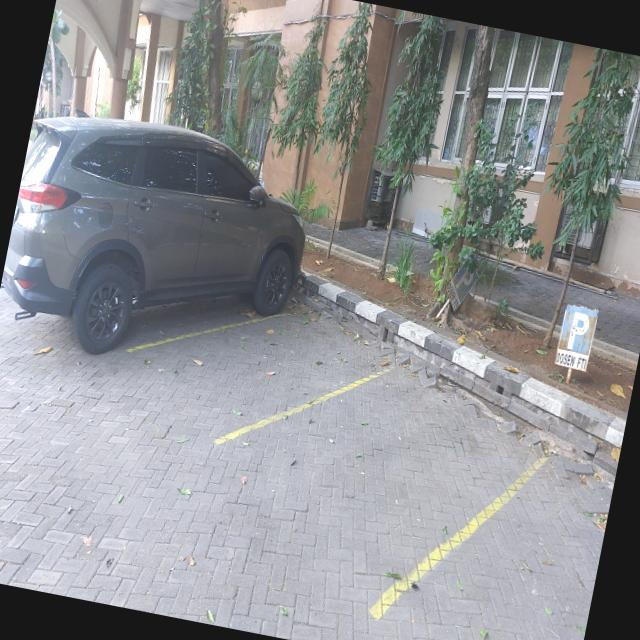car: (25, 130, 326, 336)
free: (218, 360, 550, 620), (133, 303, 403, 446)
